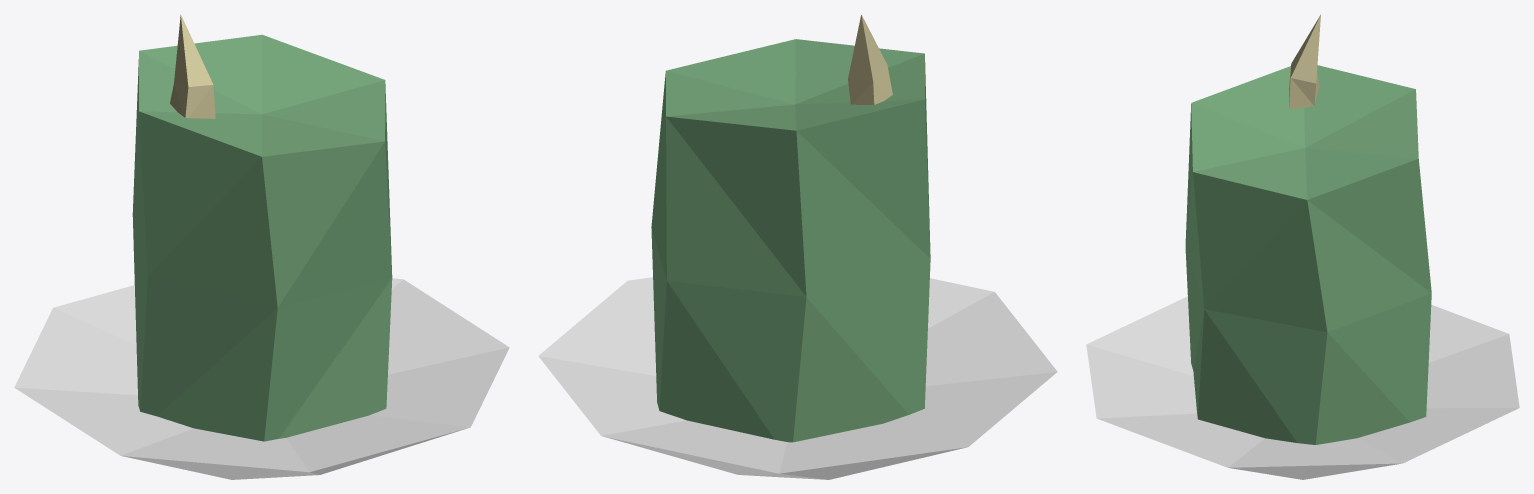
File: candle.fbx
3 renders of one model, left to right at view 1: azimuth 30°, elevation 25°; view 2: azimuth 150°, elevation 25°; view 3: azimuth 270°, elevation 25°, orthographic. The views are drawn at different scales.
Parts seen in each view (by area): view 1: polySurface10; view 2: polySurface10; view 3: polySurface10.
Part boxes in pixels (x1,y1,x2,y2): polySurface10: (14, 14, 509, 479); polySurface10: (538, 14, 1057, 479); polySurface10: (1086, 14, 1519, 479).
Bounding box in the file's own units: 8.92 × 8.85 × 8.92.
